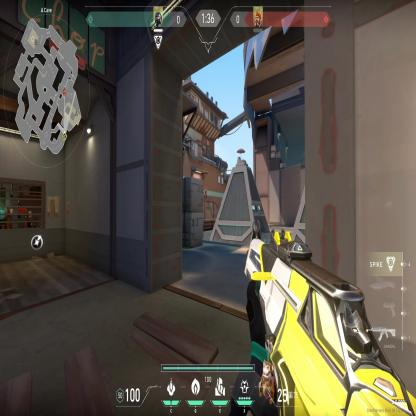enemy: (204, 184, 208, 198)
